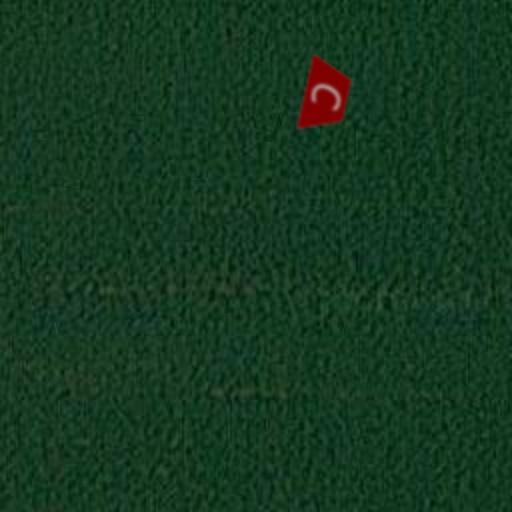trapezoid: (278, 48, 374, 144)
